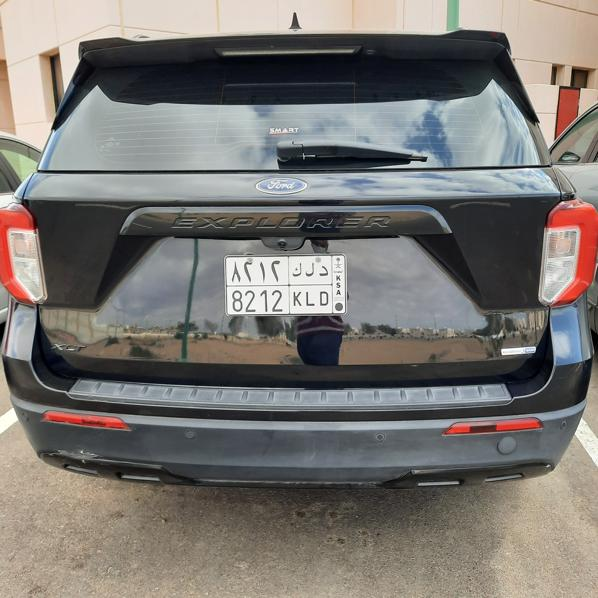numberplate: (226, 256, 347, 313)
